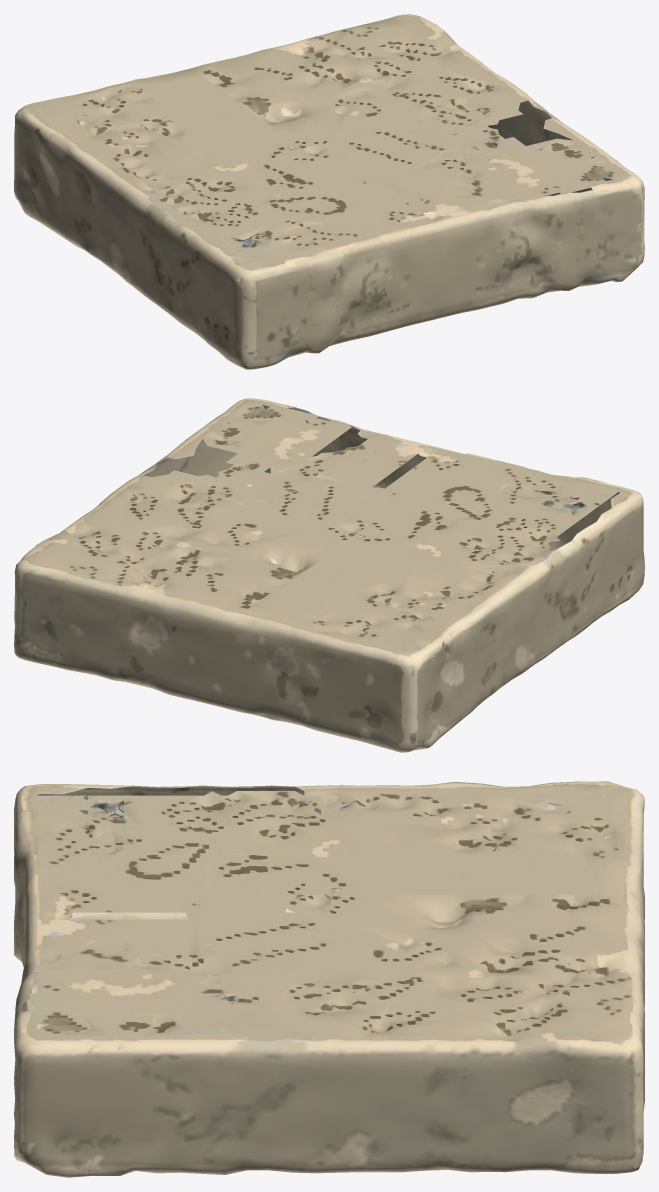
File: t_ancient-manuscript.glb
The picture shows the model from 3 angles, top to bottom: view 1: azimuth 30°, elevation 25°; view 2: azimuth 150°, elevation 25°; view 3: azimuth 270°, elevation 25°; orthographic projection. The views are drawn at different scales.
Size of the model in its own units: 1.91 by 0.446 by 1.91.
Materials: 1 (1 with a texture image).
